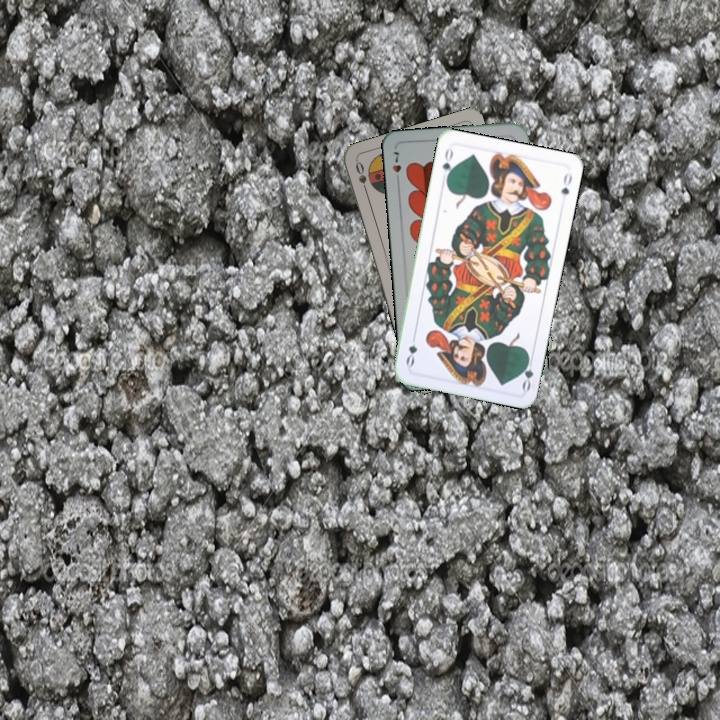GO: (517, 352, 536, 393), (438, 143, 456, 185)
H7: (388, 148, 404, 186)
SO: (351, 157, 371, 197)
